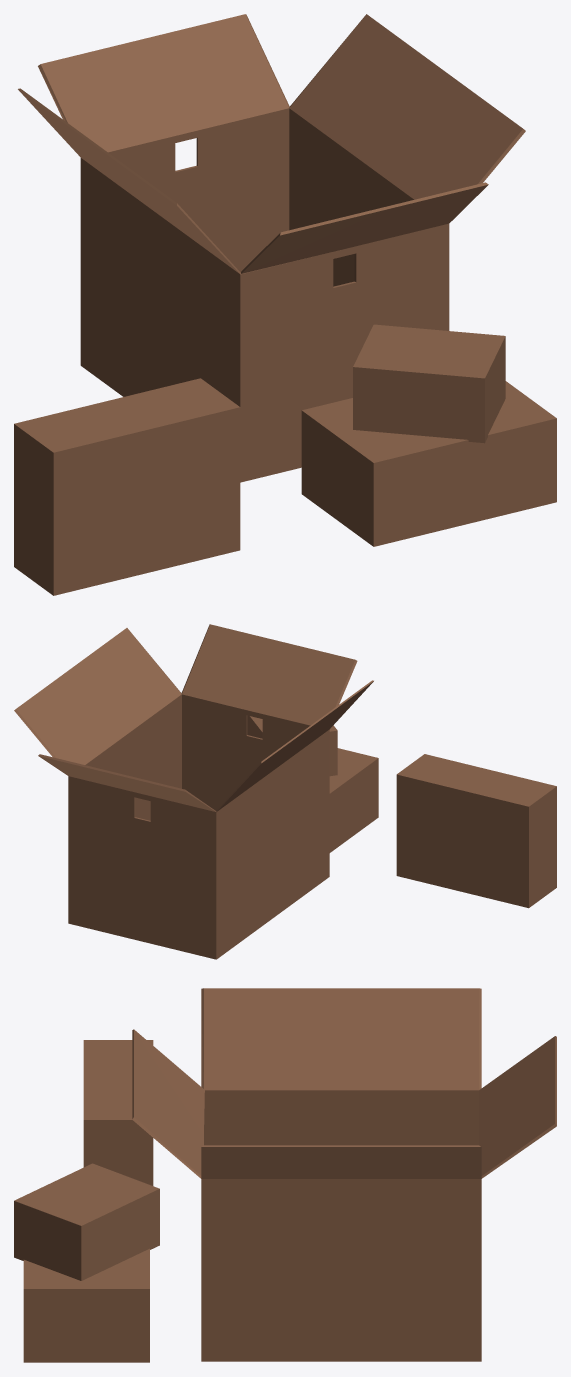
3 views of the same model, one above another, from view 1: azimuth 30°, elevation 25°; view 2: azimuth 150°, elevation 25°; view 3: azimuth 270°, elevation 25° (orthographic). The views are drawn at different scales.
Parts seen in each view (by area): view 1: Box001, Box002, Box003, Object003, Object006, Box004, Object005, Object004; view 2: Box001, Box002, Object003, Object005, Box003, Object006, Object004, Box004; view 3: Box001, Object004, Box004, Box003, Object003, Box002, Object006, Object005.
Boxes of the visible parts, x1,y1,x2,y2 form: Box001: (80, 108, 449, 482); Box002: (14, 378, 240, 595); Box003: (301, 381, 556, 546); Object003: (289, 14, 525, 199); Object006: (38, 14, 289, 152); Box004: (353, 324, 505, 443); Object005: (241, 182, 488, 273); Object004: (18, 88, 240, 274); Box001: (68, 694, 329, 959); Box002: (396, 754, 556, 908); Object003: (14, 628, 181, 764); Object005: (181, 624, 357, 725); Box003: (329, 748, 378, 852); Object006: (38, 754, 216, 811); Object004: (216, 680, 373, 811); Box004: (247, 715, 337, 776); Box001: (201, 1090, 481, 1361); Object004: (201, 988, 481, 1090); Box004: (14, 1163, 159, 1280); Box003: (23, 1248, 149, 1362); Object003: (201, 1145, 481, 1178); Box002: (83, 1040, 153, 1185); Object006: (479, 1036, 556, 1178); Object005: (132, 1029, 204, 1178).
Bounding box in the file's own units: 949 × 497 × 943.
